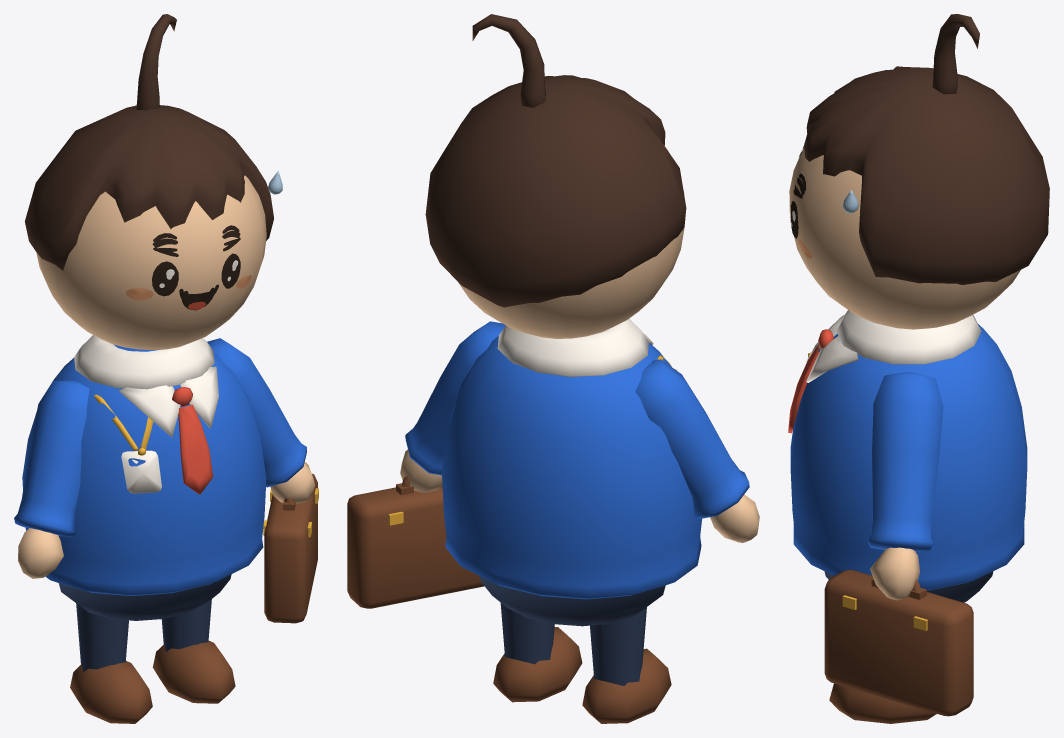
The model's file is kit.glb.
3 renders of one model, left to right at view 1: azimuth 30°, elevation 25°; view 2: azimuth 150°, elevation 25°; view 3: azimuth 270°, elevation 25°, orthographic. The views are drawn at different scales.
Visible parts, largest first — view 1: body, head, briefcase, sprout, face_offer_joy, face_hopeful, face_focused; view 2: body, head, briefcase, sprout; view 3: body, head, briefcase, sprout.
Boxes of the visible parts, x1=… form: body: x1=14, y1=335, x2=314, y2=723; head: x1=25, y1=105, x2=273, y2=349; briefcase: x1=263, y1=473, x2=318, y2=623; sprout: x1=136, y1=14, x2=176, y2=110; face_offer_joy: x1=152, y1=225, x2=240, y2=310; face_hopeful: x1=126, y1=231, x2=251, y2=302; face_focused: x1=153, y1=237, x2=240, y2=301; body: x1=400, y1=319, x2=759, y2=723; head: x1=425, y1=75, x2=686, y2=338; briefcase: x1=347, y1=476, x2=484, y2=608; sprout: x1=472, y1=14, x2=545, y2=107; body: x1=788, y1=310, x2=1027, y2=723; head: x1=789, y1=66, x2=1049, y2=329; briefcase: x1=824, y1=570, x2=973, y2=716; sprout: x1=932, y1=14, x2=979, y2=94.
Size of the model in its own units: 0.6068 by 1.1 by 0.3744.
